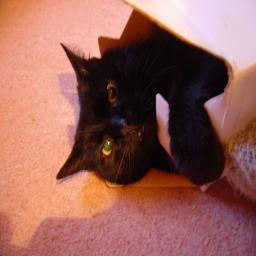catnose: (119, 119, 135, 138)
